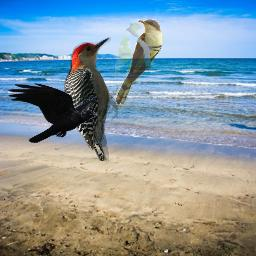Crow: (7, 82, 99, 143)
Cuckoo: (115, 19, 163, 106)
Woodpecker: (63, 37, 118, 161)
